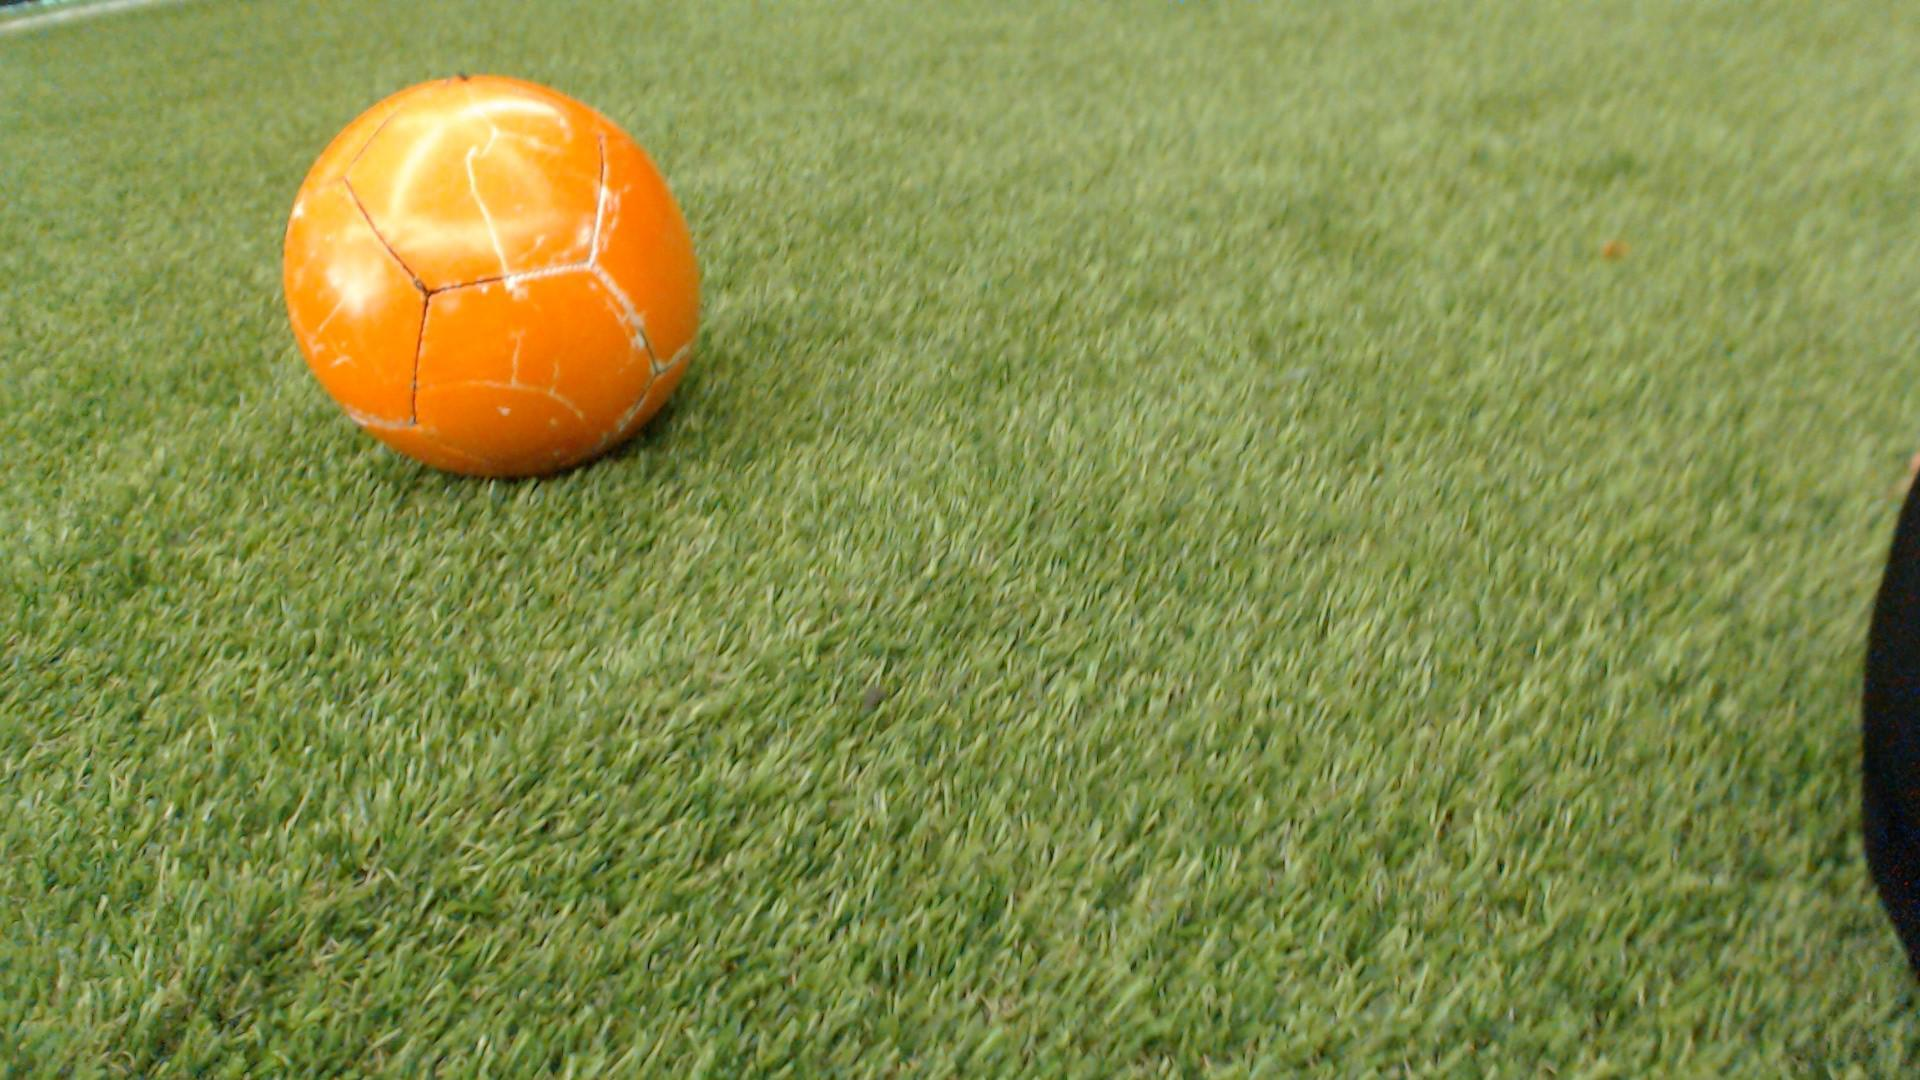bola: (255, 55, 742, 475)
